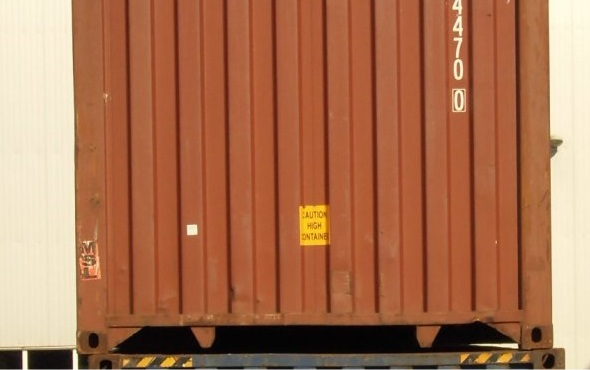container_no_door: (75, 1, 551, 353)
